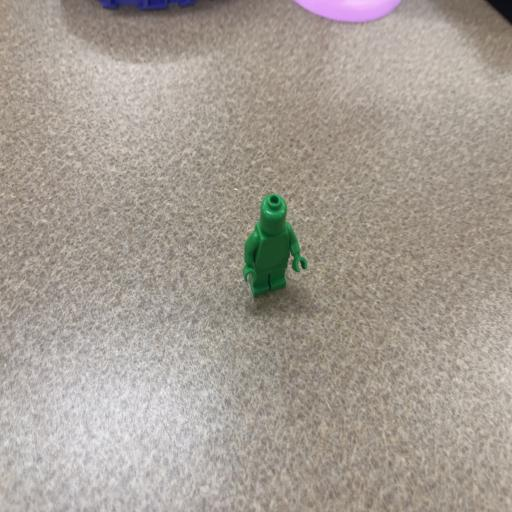Lego-Minifig: (243, 195, 307, 296)
